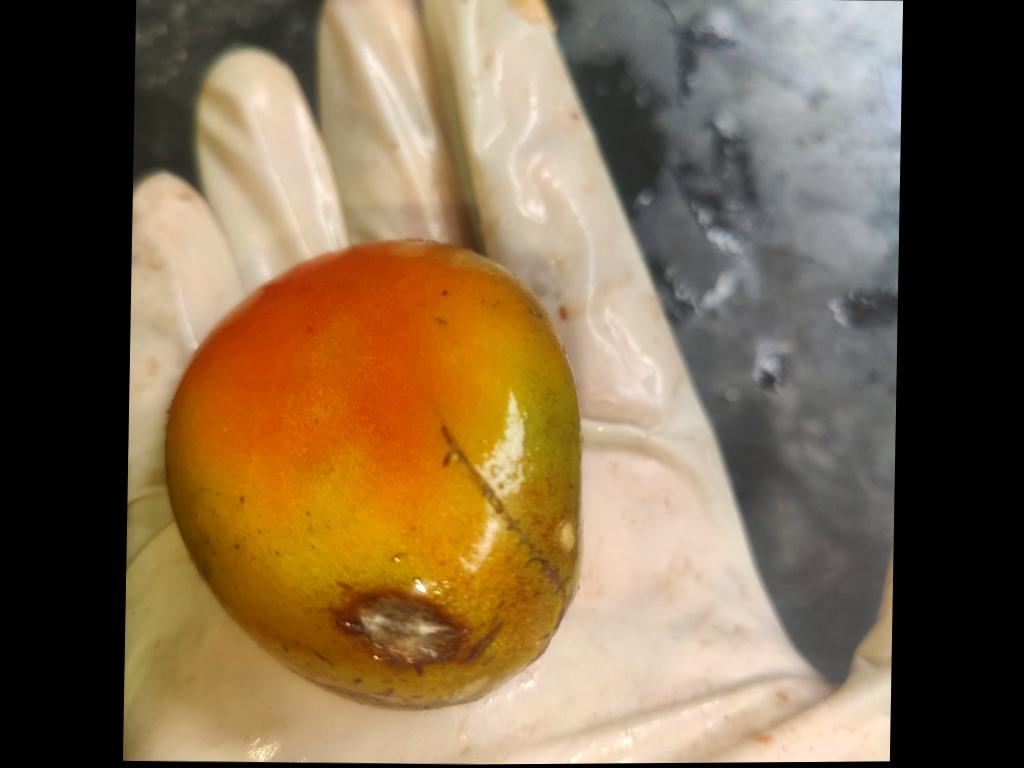rot_mold_decay: (352, 594, 462, 663)
surface_damage: (439, 424, 571, 635), (459, 623, 500, 664)
tomato: (165, 240, 579, 709)
